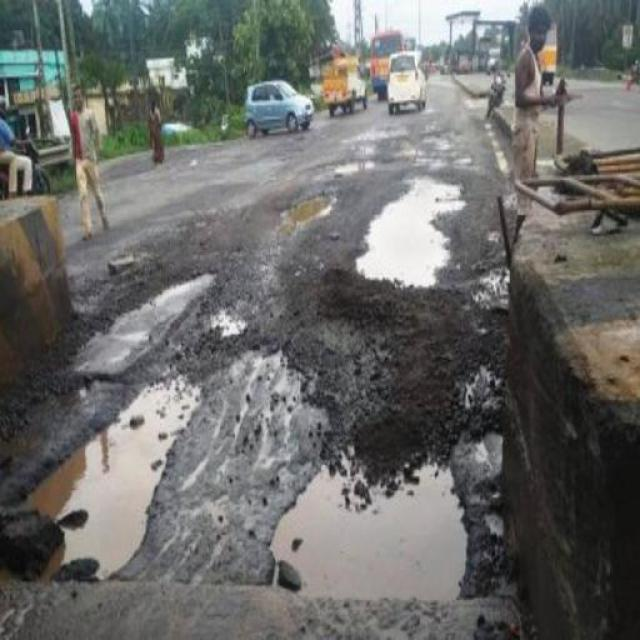puddle: (292, 478, 471, 603), (49, 455, 145, 565), (391, 173, 451, 289)
